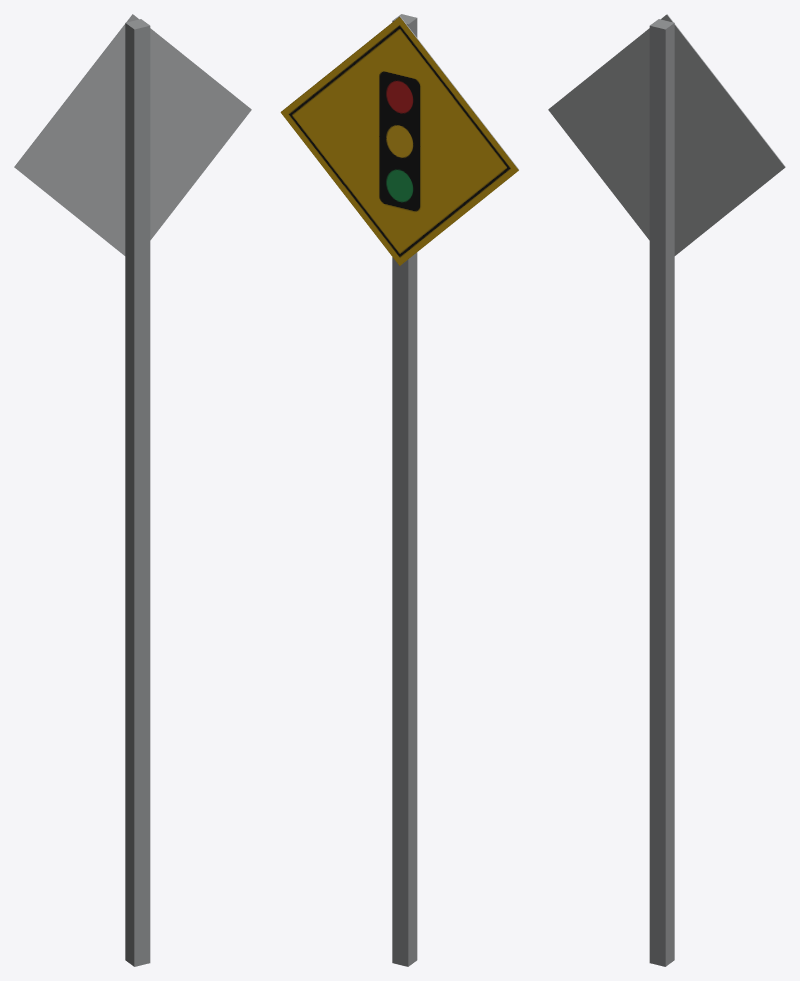
The model's file is sign_w3-3_signal_ahead.glb.
3 renders of one model, left to right at view 1: azimuth 30°, elevation 25°; view 2: azimuth 150°, elevation 25°; view 3: azimuth 330°, elevation 25°, orthographic.
Visible parts, largest first — view 1: sign_w3-3_signal_ahead; view 2: sign_w3-3_signal_ahead; view 3: sign_w3-3_signal_ahead.
Boxes of the visible parts, x1,y1,x2,y2 form: sign_w3-3_signal_ahead: (14, 14, 251, 966); sign_w3-3_signal_ahead: (280, 14, 518, 966); sign_w3-3_signal_ahead: (548, 14, 785, 966).
Bounding box in the file's own units: 0.762 × 2.9 × 0.0538.
3 materials, 1 textured.
